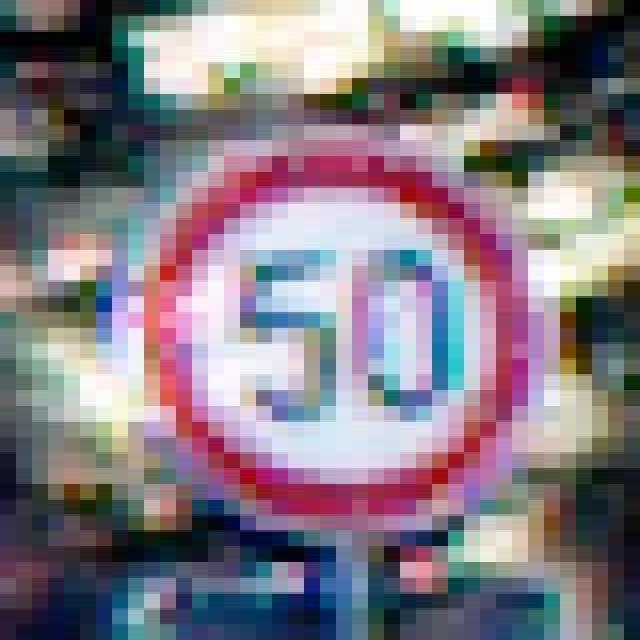50 kph: (112, 110, 528, 516)
